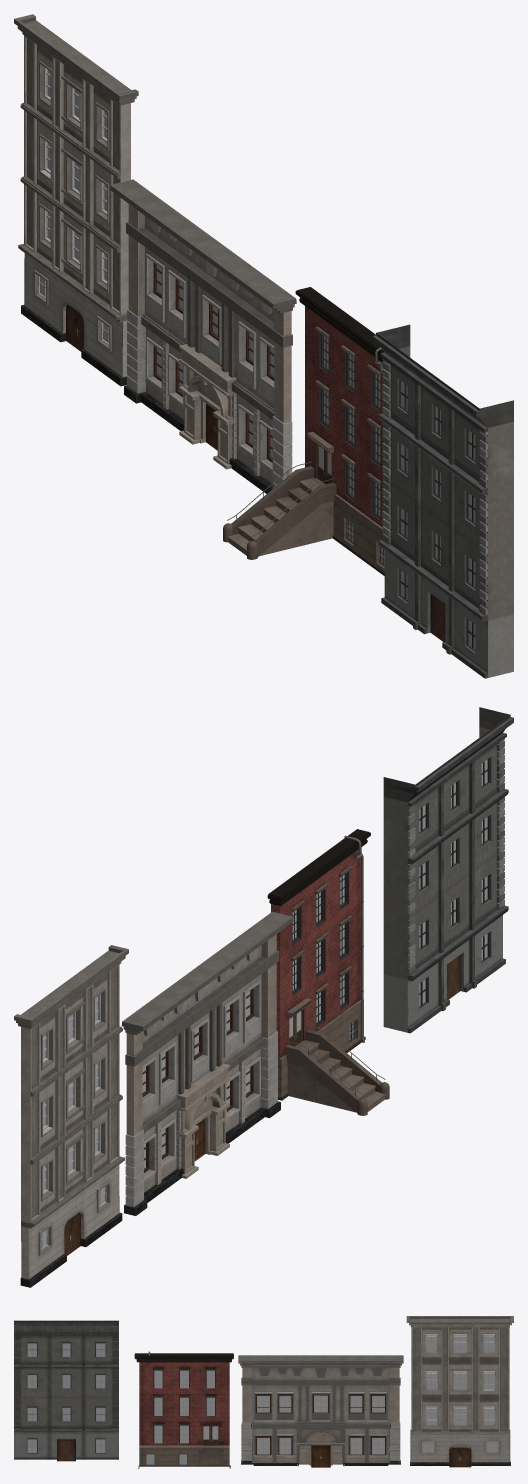
The model's file is buildings_front.glb.
The picture shows the model from 3 angles, top to bottom: view 1: azimuth 30°, elevation 25°; view 2: azimuth 150°, elevation 25°; view 3: azimuth 270°, elevation 25°; orthographic projection. The views are drawn at different scales.
Visible parts, largest first — view 1: Building_4, Buidling_2, Building_1, Buidling_3; view 2: Buidling_2, Building_4, Building_1, Buidling_3; view 3: Buidling_2, Building_1, Building_4, Buidling_3.
Boxes of the visible parts, bbox=[...] form: Building_4: bbox=[372, 324, 513, 678]; Buidling_2: bbox=[110, 179, 296, 493]; Building_1: bbox=[14, 14, 138, 386]; Buidling_3: bbox=[223, 287, 384, 575]; Buidling_2: bbox=[121, 911, 293, 1215]; Building_4: bbox=[383, 707, 513, 1033]; Building_1: bbox=[14, 945, 128, 1287]; Buidling_3: bbox=[267, 829, 389, 1115]; Buidling_2: bbox=[238, 1355, 403, 1467]; Building_1: bbox=[406, 1316, 513, 1467]; Building_4: bbox=[14, 1320, 118, 1461]; Buidling_3: bbox=[134, 1351, 233, 1468].
Size of the model in its own units: 9.63 by 27.68 by 84.19.
4 materials, 4 textured.
